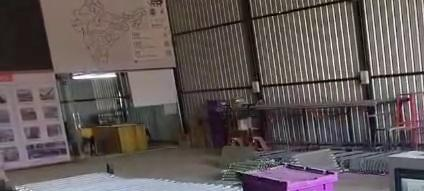box: (242, 164, 337, 190)
